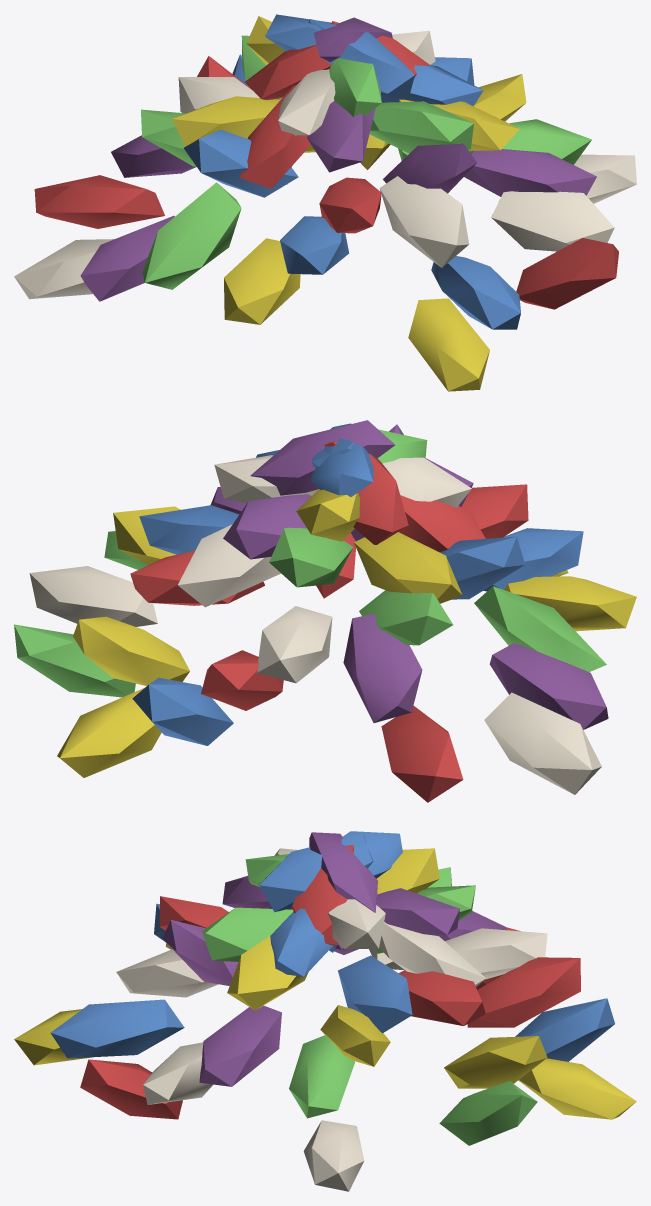
Rendered from sock_pile.glb.
The picture shows the model from 3 angles, top to bottom: view 1: azimuth 30°, elevation 25°; view 2: azimuth 150°, elevation 25°; view 3: azimuth 270°, elevation 25°; orthographic projection. The views are drawn at different scales.
Parts seen in each view (by area): view 1: sock_pile; view 2: sock_pile; view 3: sock_pile.
Part boxes in pixels (x1=…): sock_pile: x1=14, y1=14, x2=636, y2=391; sock_pile: x1=14, y1=420, x2=636, y2=802; sock_pile: x1=14, y1=831, x2=636, y2=1191.
Bounding box in the file's own units: 5.43 × 2.24 × 5.34.
